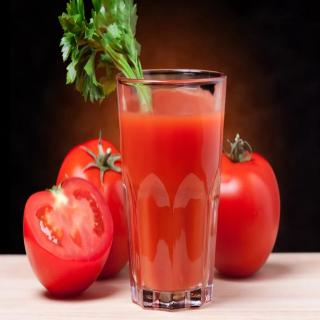tomato: (21, 174, 114, 296), (54, 130, 130, 278), (221, 132, 281, 278)
